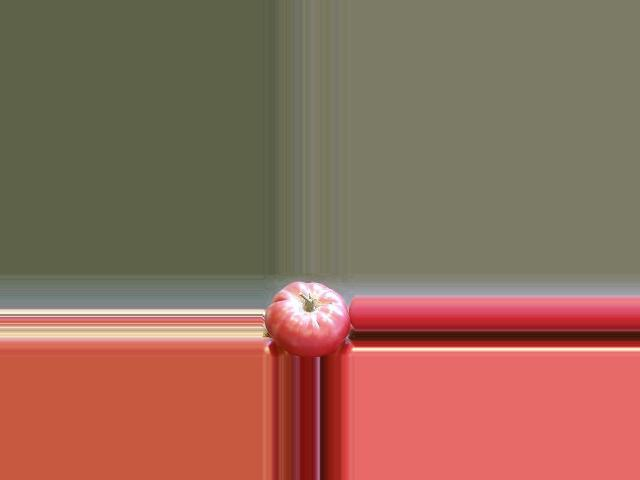tomato: (264, 282, 349, 357)
